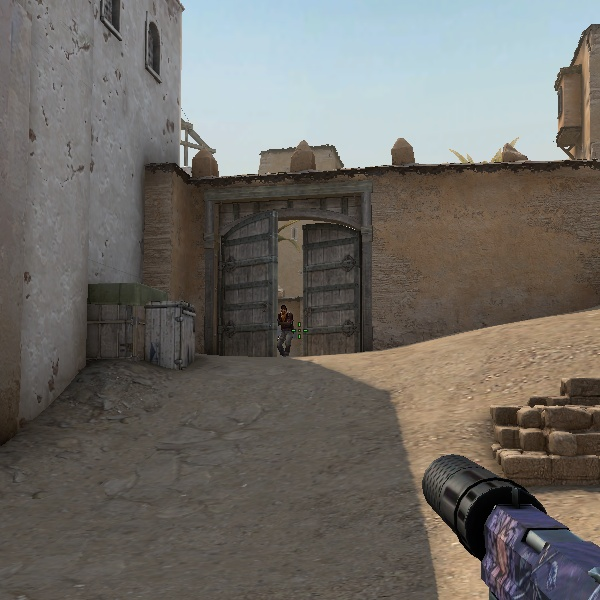t_body: (271, 303, 297, 356)
